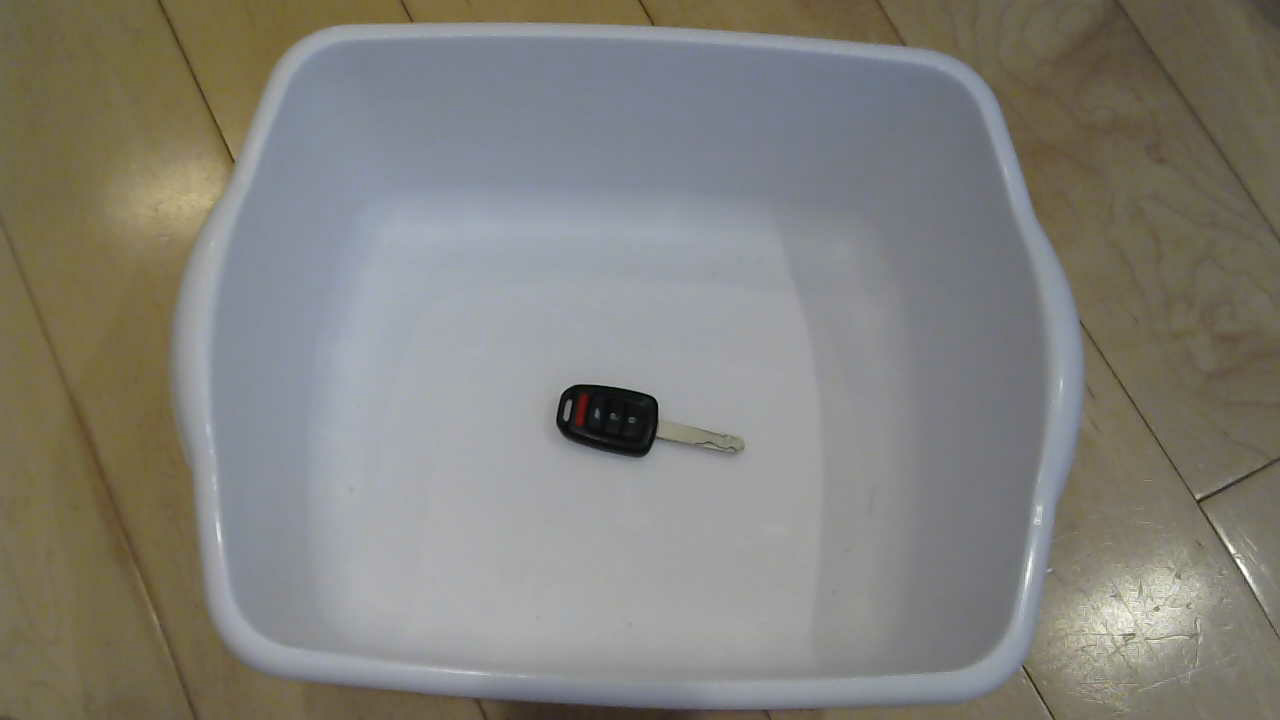key: (557, 366, 748, 489)
